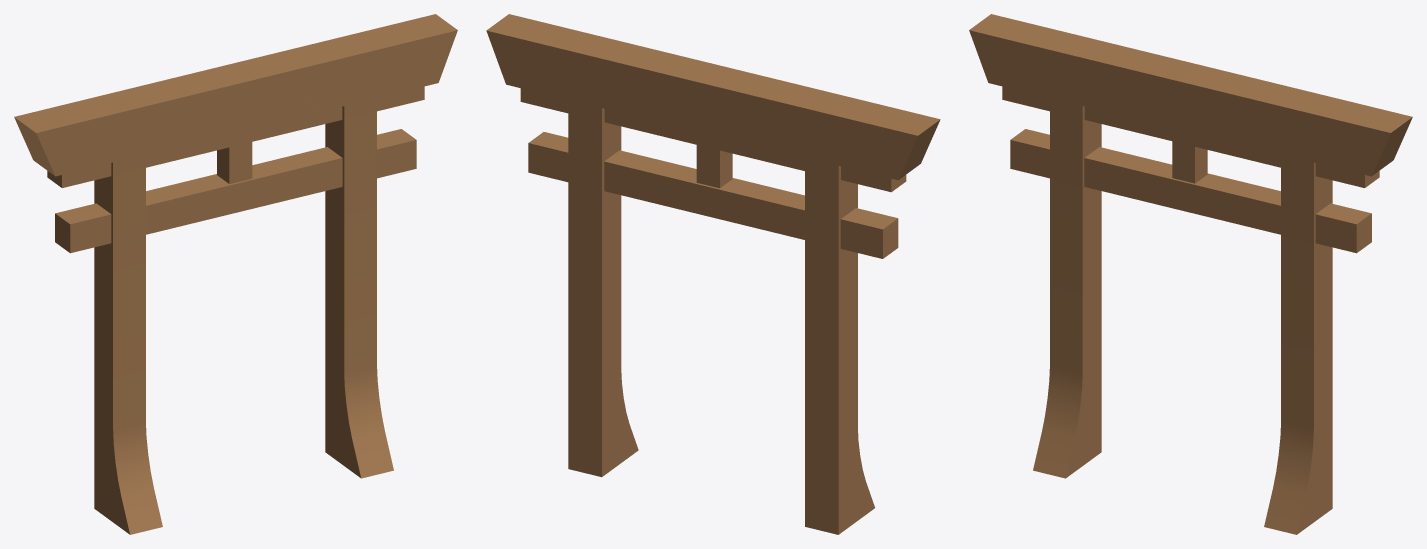
Rendered from q-torii-gate-7syxz62xr5.glb.
3 views of the same model, side by side, from view 1: azimuth 30°, elevation 25°; view 2: azimuth 150°, elevation 25°; view 3: azimuth 330°, elevation 25° (orthographic). The views are drawn at different scales.
Visible parts, largest first — view 1: Environment_ToriiGate; view 2: Environment_ToriiGate; view 3: Environment_ToriiGate.
Boxes of the visible parts, x1,y1,x2,y2 form: Environment_ToriiGate: (14,14,457,534); Environment_ToriiGate: (486,14,940,534); Environment_ToriiGate: (969,14,1412,534).
Bounding box in the file's own units: 5.73 × 5.32 × 0.8752.
1 material, 1 textured.
